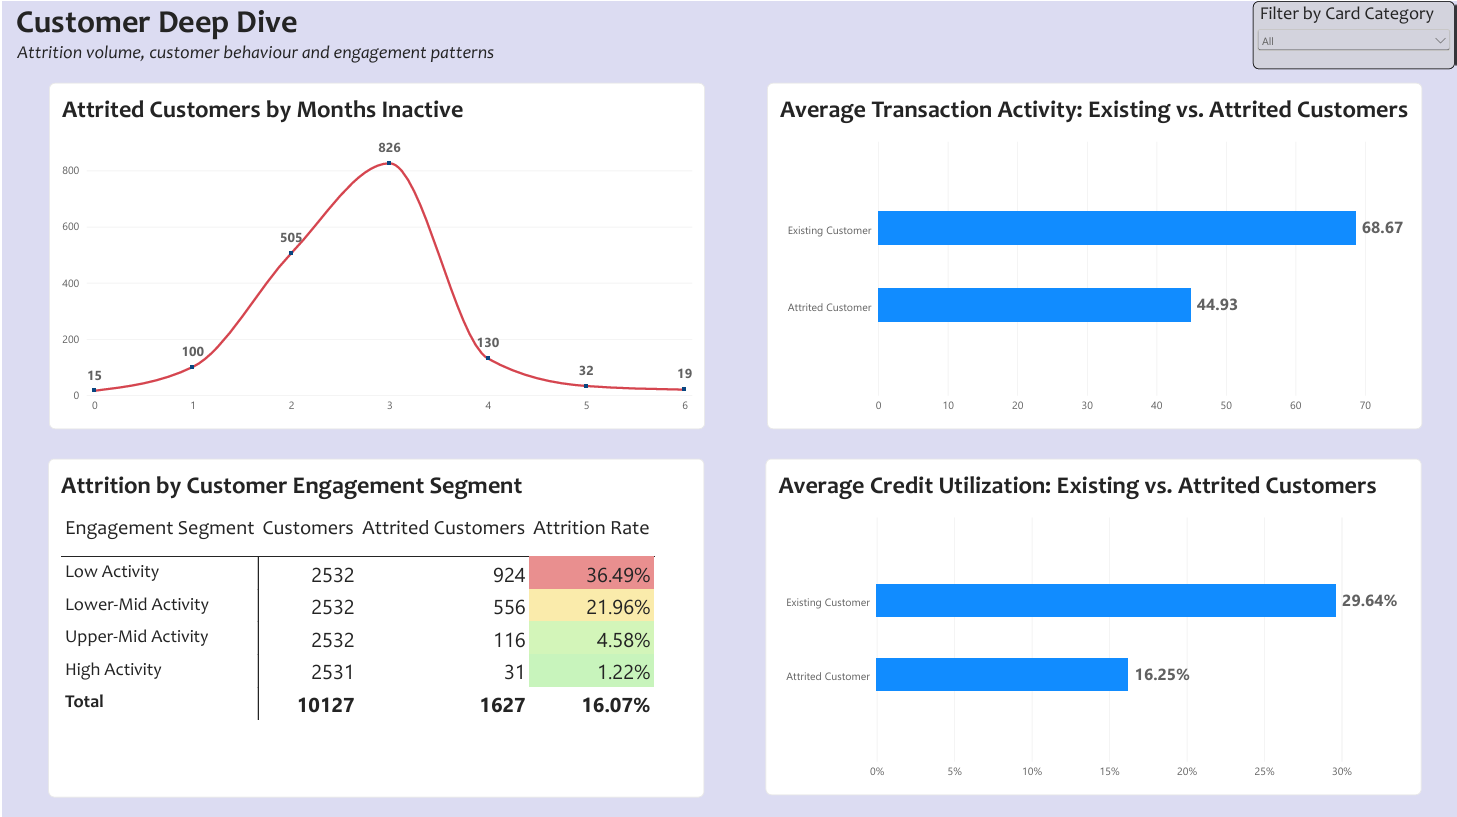

Layout of this report page (visuals, bound fields, positions):
{"tool":"powerbi","page":{"name":"Customer Deep Dive","canvas":[1920,1080],"ordinal":1},"visuals":[{"type":"textbox","box":[0,0,704,90],"z":0},{"type":"lineChart","title":"Attrited Customers by Months Inactive","fields":{"Category":["public vw_powerbi_customer_dataset.inactive_months"],"Y":["public vw_attrition_by_profile.Attrited Customer Count"]},"box":[62.4,108.2,866.8,457.8],"z":1},{"type":"clusteredBarChart","title":"Average Transaction Activity: Existing vs. Attrited Customers","fields":{"Category":["public vw_powerbi_customer_dataset.attrition_status"],"Y":["Avg(public vw_powerbi_customer_dataset.total_transaction_count)"]},"box":[1010.7,108.2,866.8,457.8],"z":2},{"type":"clusteredBarChart","title":"Average Credit Utilization: Existing vs. Attrited Customers","fields":{"Category":["public vw_powerbi_customer_dataset.attrition_status"],"Y":["Avg(public vw_powerbi_customer_dataset.utilization_ratio)"]},"box":[1008.8,605.3,866.8,445.2],"z":3},{"type":"pivotTable","title":"Attrition by Customer Engagement Segment","fields":{"Rows":["public vw_powerbi_customer_dataset.engagement_segment"],"Values":["Count(public vw_powerbi_customer_dataset.client_num)","Sum(public vw_powerbi_customer_dataset.attrited_flag)","public vw_attrition_by_profile.Attrition Rate Numeric"]},"box":[60.5,605.3,867.6,447.6],"z":4},{"type":"slicer","fields":{"Values":["public vw_powerbi_customer_dataset.card_category"]},"box":[1652.7,0,267.8,89.9],"z":5}]}

Visuals, with their boxes in screenshot pixels (x1, y1, x2, y2), scaled from the page's 1920x1080 canvas onto the 1457x817 screenshot:
textbox: (0,0,534,68)
"Attrited Customers by Months Inactive" lineChart: (47,82,705,428)
"Average Transaction Activity: Existing vs. Attrited Customers" clusteredBarChart: (767,82,1425,428)
"Average Credit Utilization: Existing vs. Attrited Customers" clusteredBarChart: (766,458,1423,795)
"Attrition by Customer Engagement Segment" pivotTable: (46,458,704,796)
slicer - public vw_powerbi_customer_dataset.card_category: (1254,0,1456,68)
